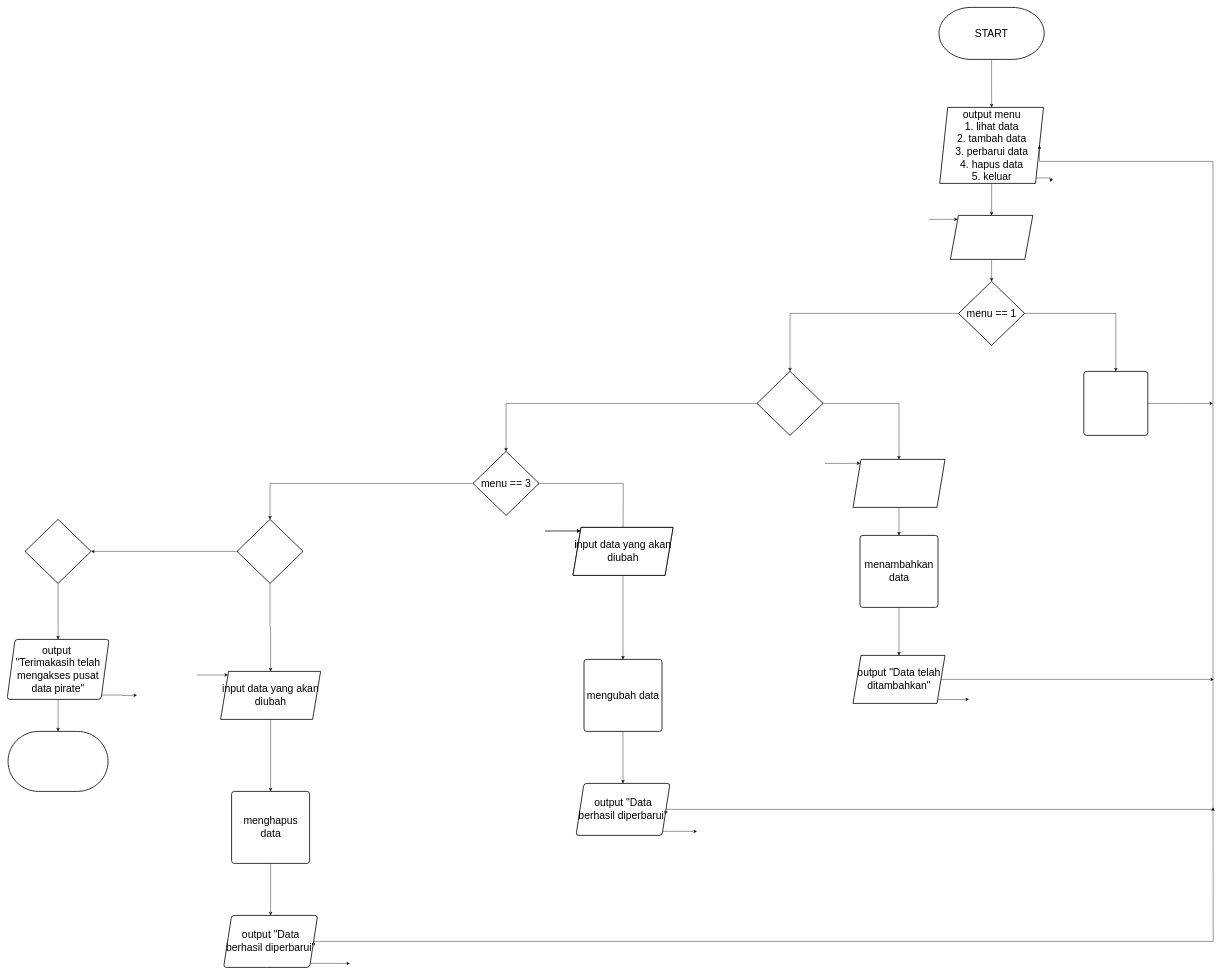
Some shapes in this 1224 by 974 pixel diagram are drawn without their labels. The shapes that lost their labels are listed below. From the top down, each one's centre as x and y in pixels, then its label:
At point (991, 237): "input menu".
At point (789, 403): "menu == 2".
At point (1115, 403): "Tampilkan Data".
At point (898, 483): "input nama, buah iblis, bounty".
At point (57, 551): "menu == 5".
At point (269, 551): "menu == 4".
At point (57, 761): "END".
